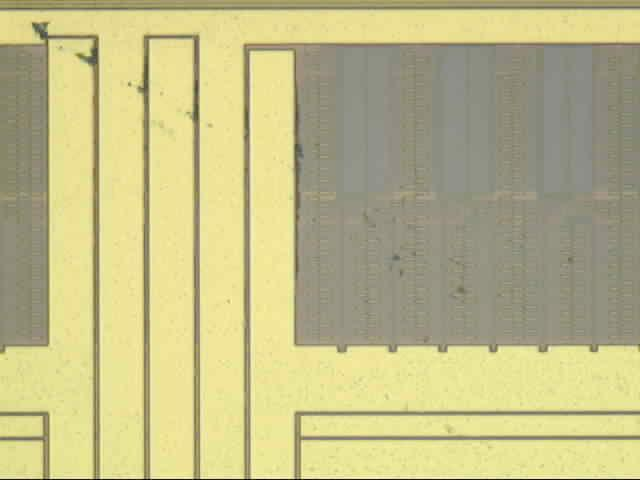SCRATCH: (23, 14, 536, 324)
